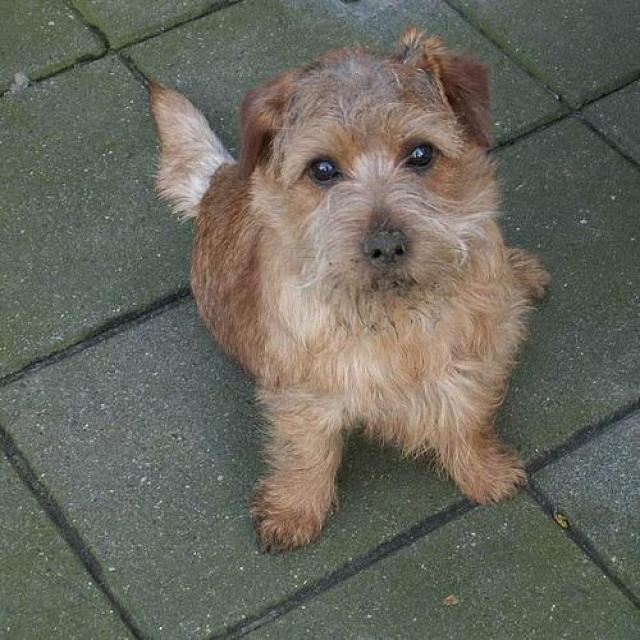dogs: (110, 41, 607, 618)
